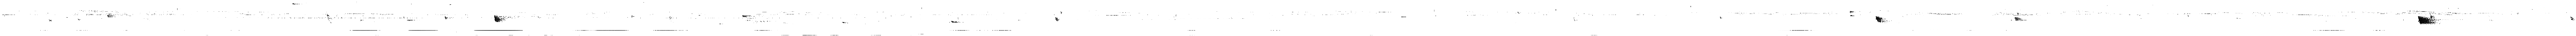meteor: (2418, 15, 2441, 25), (494, 15, 506, 23), (1876, 16, 1888, 23)
